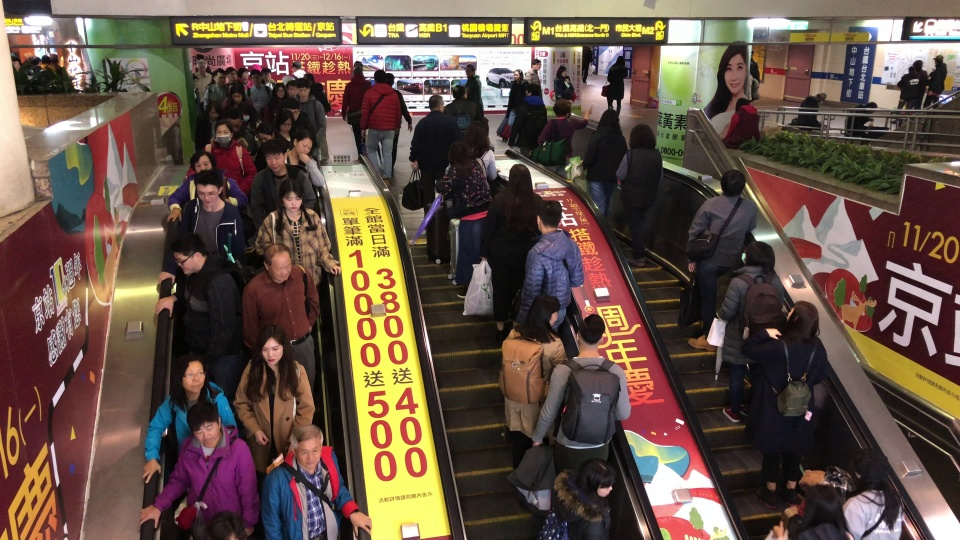person_head: (241, 240, 326, 398), (245, 320, 303, 404), (859, 448, 907, 532), (174, 352, 222, 411), (272, 178, 315, 239), (786, 300, 821, 366), (804, 487, 846, 540), (186, 397, 223, 455), (289, 421, 325, 472), (580, 457, 618, 501), (172, 232, 206, 280), (530, 293, 561, 342), (508, 162, 534, 217), (744, 238, 776, 279), (262, 243, 291, 284), (577, 313, 606, 352), (194, 173, 226, 208), (721, 168, 749, 201), (467, 116, 490, 156), (536, 201, 562, 235), (628, 122, 656, 151), (264, 138, 285, 174), (593, 109, 621, 135), (189, 152, 218, 176), (293, 129, 315, 159), (214, 119, 234, 150), (277, 108, 295, 135), (427, 92, 446, 116), (258, 119, 275, 144), (247, 61, 262, 89), (452, 82, 469, 106), (552, 98, 571, 118), (285, 97, 300, 121), (271, 82, 287, 103), (228, 110, 242, 133), (297, 81, 310, 104), (206, 101, 220, 121), (232, 84, 245, 104), (351, 67, 364, 87), (286, 81, 300, 98), (735, 97, 749, 114), (212, 67, 224, 86), (252, 69, 262, 89), (554, 63, 566, 79), (465, 62, 476, 79), (385, 72, 396, 89), (528, 85, 540, 100), (242, 105, 252, 122), (865, 101, 878, 114), (615, 55, 626, 70), (48, 53, 60, 66), (530, 56, 539, 73), (226, 66, 236, 81), (238, 68, 250, 80), (912, 59, 924, 71), (262, 66, 272, 80), (374, 67, 382, 84), (305, 71, 314, 86), (196, 59, 205, 73), (513, 68, 522, 82), (251, 62, 262, 73), (281, 73, 292, 84), (353, 59, 364, 70), (934, 55, 944, 67), (817, 91, 826, 104), (191, 72, 198, 88), (42, 54, 50, 67), (292, 61, 302, 71), (33, 57, 41, 69), (227, 82, 234, 94), (564, 76, 571, 83), (907, 65, 911, 72)
person_vbox: (529, 314, 633, 514), (138, 395, 262, 540), (756, 295, 830, 515), (155, 226, 246, 402), (228, 319, 319, 494), (139, 346, 239, 504), (715, 233, 793, 425), (679, 167, 755, 354), (260, 417, 372, 540), (504, 293, 572, 475), (153, 186, 251, 307), (513, 198, 583, 359), (443, 117, 500, 298), (408, 88, 464, 250), (486, 160, 536, 336), (255, 176, 334, 287), (615, 123, 663, 269), (250, 137, 317, 234), (552, 448, 621, 540), (843, 447, 910, 538), (166, 151, 249, 224), (586, 111, 627, 229), (536, 98, 594, 177), (363, 69, 400, 188), (201, 119, 258, 194), (772, 489, 856, 538), (507, 81, 547, 158), (383, 70, 412, 173), (284, 128, 324, 194), (297, 83, 327, 162), (496, 66, 523, 152), (723, 96, 761, 154), (341, 68, 364, 158), (225, 110, 258, 163), (789, 90, 827, 135), (888, 65, 913, 131), (601, 49, 628, 110), (842, 99, 878, 143), (905, 57, 929, 122), (195, 101, 223, 154), (461, 57, 485, 117), (445, 77, 470, 132), (923, 54, 947, 110), (223, 84, 258, 117), (203, 67, 228, 113), (305, 73, 333, 114), (283, 98, 308, 142), (549, 66, 581, 100), (246, 72, 271, 113), (221, 80, 255, 109), (274, 109, 297, 148), (196, 58, 213, 102), (527, 54, 545, 89), (270, 81, 286, 116), (49, 52, 68, 81), (749, 47, 759, 102), (241, 103, 257, 137), (581, 47, 594, 85), (40, 52, 55, 84), (223, 64, 238, 93), (260, 64, 276, 90), (190, 70, 201, 107), (238, 64, 252, 93), (291, 59, 308, 81), (237, 60, 249, 91), (29, 53, 40, 79), (561, 75, 574, 97), (212, 69, 217, 85)
